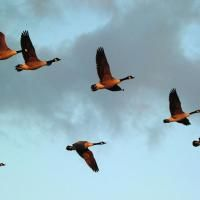goose: (87, 46, 136, 95), (14, 29, 62, 74), (161, 88, 200, 131), (64, 138, 107, 174), (1, 31, 29, 60)
